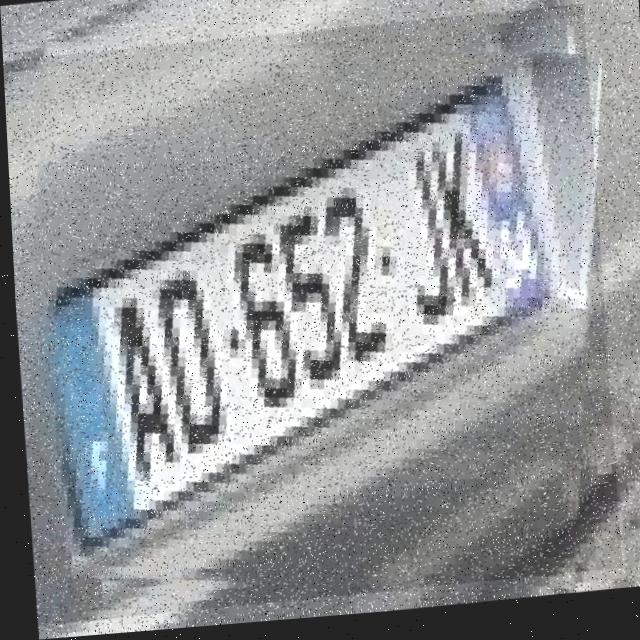LicensePlate: (2, 12, 615, 625)
